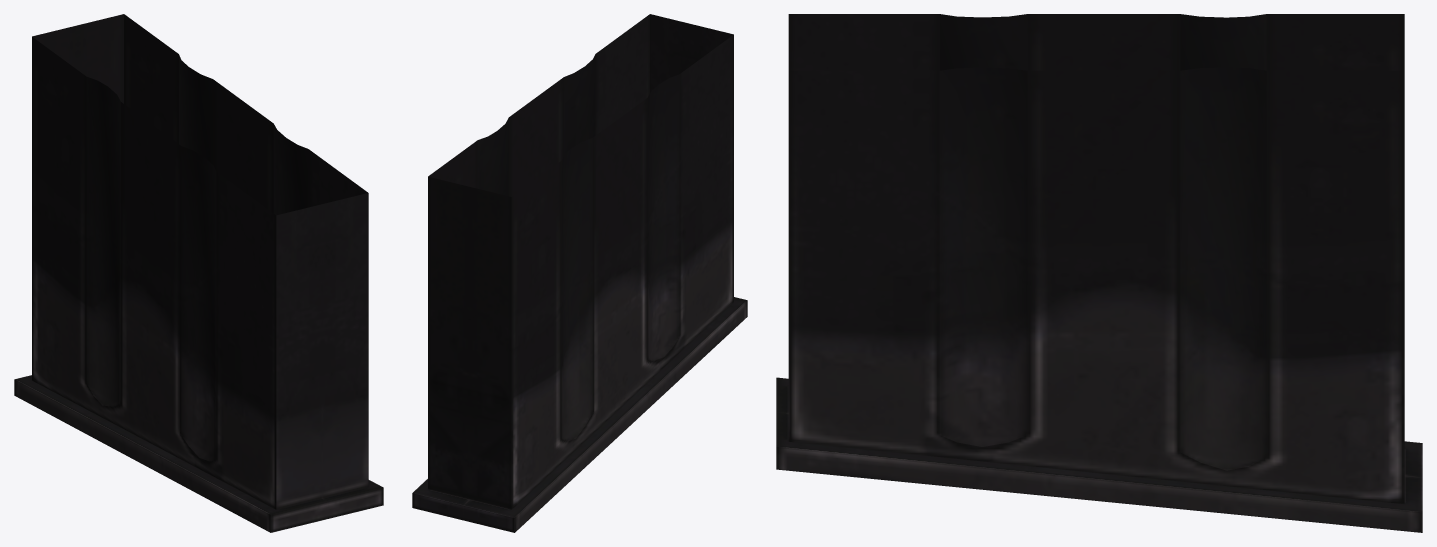
Rendered from SniperRifle_Warfare_Clip_1.FBX.
3 renders of one model, left to right at view 1: azimuth 30°, elevation 25°; view 2: azimuth 150°, elevation 25°; view 3: azimuth 270°, elevation 25°, orthographic. The views are drawn at different scales.
Visible parts, largest first — view 1: mesh_clip; view 2: mesh_clip; view 3: mesh_clip.
Boxes of the visible parts, box(x1,y1,x2,y2) form: mesh_clip: box(14, 14, 383, 532); mesh_clip: box(412, 14, 747, 532); mesh_clip: box(776, 14, 1422, 532).
Size of the model in its own units: 0.0302 by 0.0925 by 0.1188.
